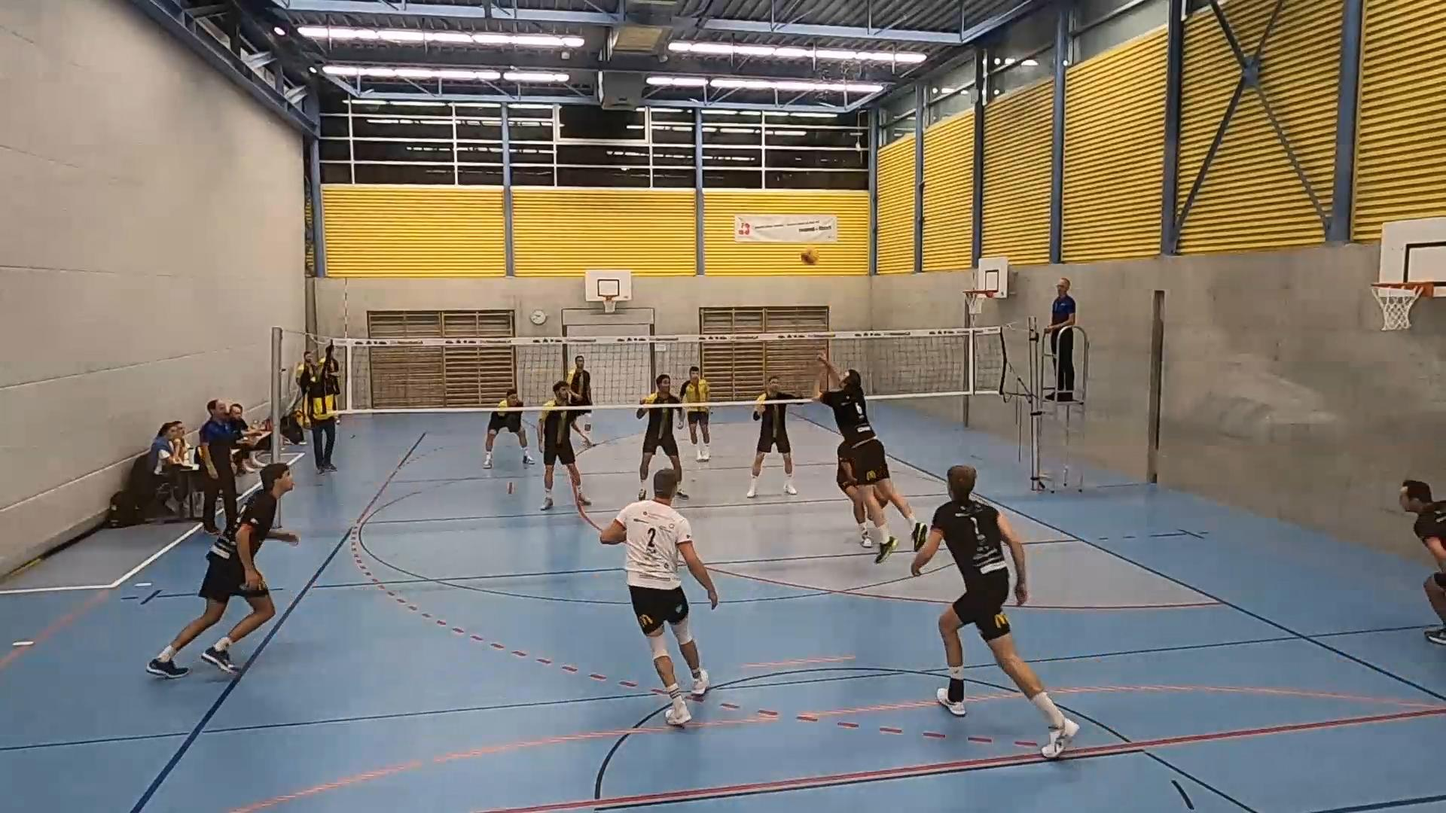difesa: (803, 346, 893, 562)
